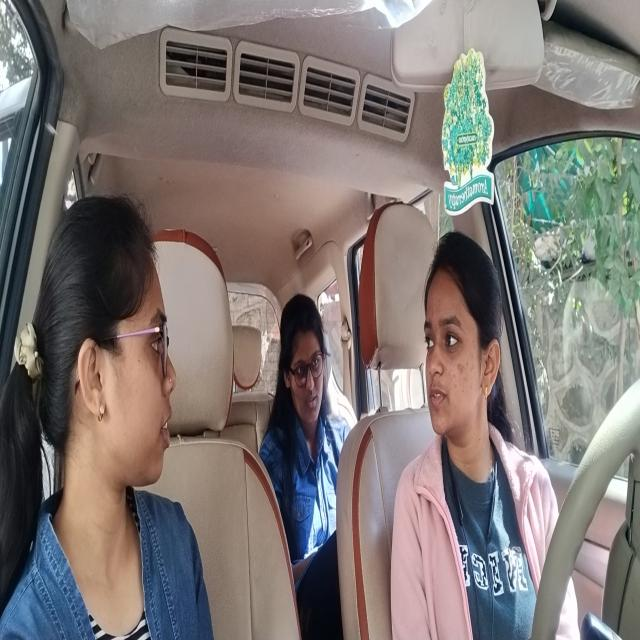LeftRight: (422, 220, 505, 449)
person: (49, 182, 185, 508), (279, 282, 330, 438)
